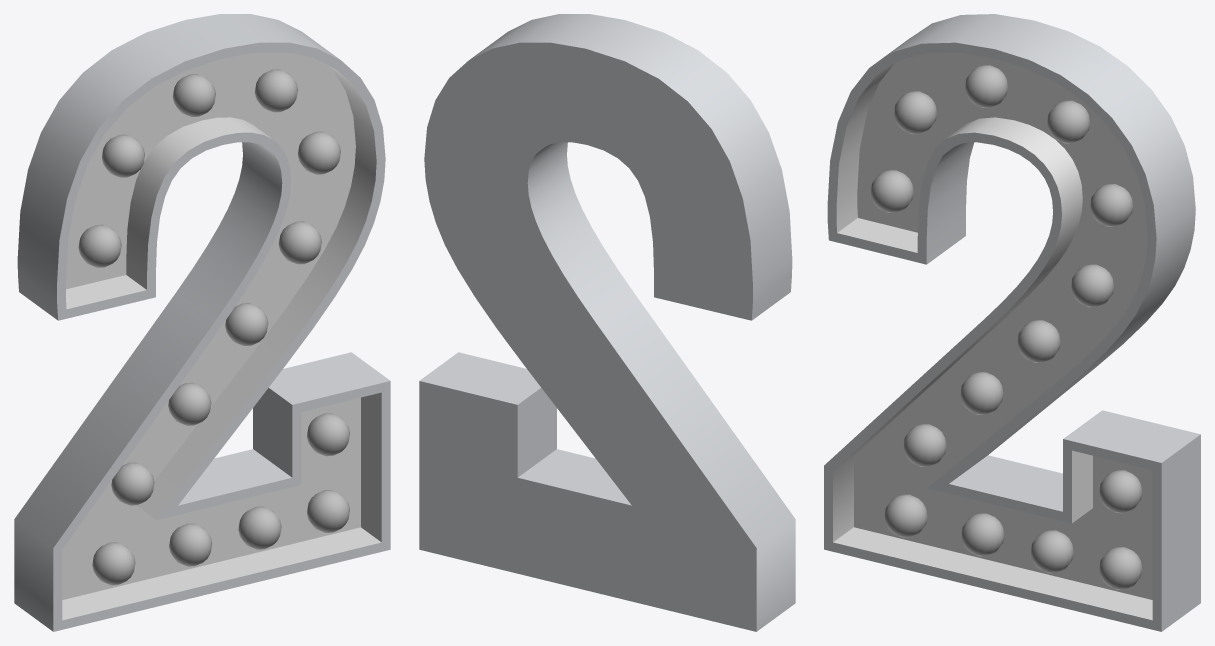
Rendered from LettersBulb01_2.FBX.
3 views of the same model, side by side, from view 1: azimuth 30°, elevation 25°; view 2: azimuth 150°, elevation 25°; view 3: azimuth 330°, elevation 25° (orthographic).
Parts seen in each view (by area): view 1: LettersBulb01_2; view 2: LettersBulb01_2; view 3: LettersBulb01_2.
Boxes of the visible parts, box(x1,y1,x2,y2) form: LettersBulb01_2: box(14, 14, 390, 631); LettersBulb01_2: box(419, 14, 795, 631); LettersBulb01_2: box(824, 14, 1200, 631).
Size of what is drawn, in the model's own units: 0.7726 by 1.19 by 0.1563.
